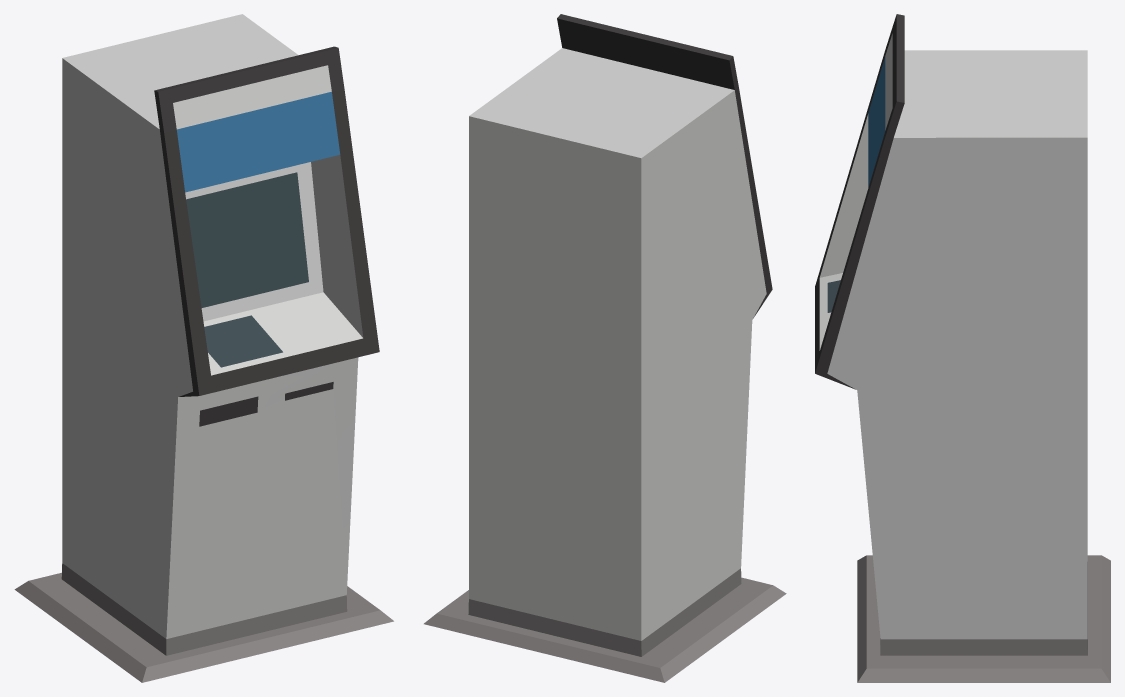
File: props_atm-mechine.fbx
The picture shows the model from 3 angles, left to right: view 1: azimuth 30°, elevation 25°; view 2: azimuth 150°, elevation 25°; view 3: azimuth 270°, elevation 25°; orthographic projection. The views are drawn at different scales.
Parts seen in each view (by area): view 1: props_atm_mechine; view 2: props_atm_mechine; view 3: props_atm_mechine.
Part boxes in pixels (x1,y1,x2,y2): props_atm_mechine: (14, 14, 393, 682); props_atm_mechine: (424, 14, 786, 682); props_atm_mechine: (815, 14, 1110, 682).
Size of the model in its own units: 92.97 by 200 by 94.94.
